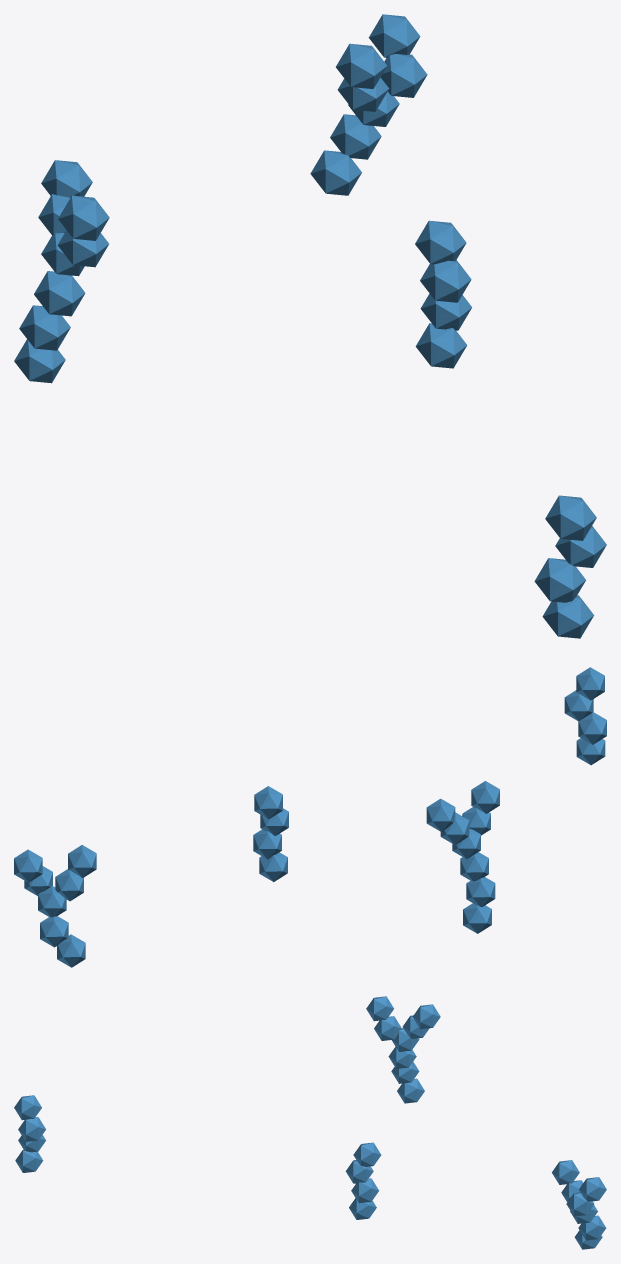
File: Carbohidratos.fbx
3 renders of one model, top to bottom at view 1: azimuth 30°, elevation 25°; view 2: azimuth 150°, elevation 25°; view 3: azimuth 270°, elevation 25°, orthographic. The views are drawn at different scales.
Visible parts, largest first — view 1: pPlatonic49, pPlatonic50, pPlatonic47, pPlatonic48; view 2: pPlatonic49, pPlatonic50, pPlatonic47, pPlatonic48; view 3: pPlatonic49, pPlatonic50, pPlatonic48, pPlatonic47.
Boxes of the visible parts, bbox=[...] form: pPlatonic49: bbox=[14, 160, 109, 383]; pPlatonic50: bbox=[310, 14, 427, 195]; pPlatonic47: bbox=[534, 495, 606, 638]; pPlatonic48: bbox=[415, 220, 471, 368]; pPlatonic49: bbox=[426, 781, 499, 933]; pPlatonic50: bbox=[14, 845, 96, 967]; pPlatonic47: bbox=[564, 667, 606, 765]; pPlatonic48: bbox=[253, 786, 288, 881]; pPlatonic49: bbox=[366, 996, 440, 1103]; pPlatonic50: bbox=[552, 1160, 606, 1249]; pPlatonic48: bbox=[345, 1142, 381, 1219]; pPlatonic47: bbox=[14, 1095, 45, 1172].
Size of the model in its own units: 4.67 by 1.93 by 7.85.
Materials: 1 (1 with a texture image).
